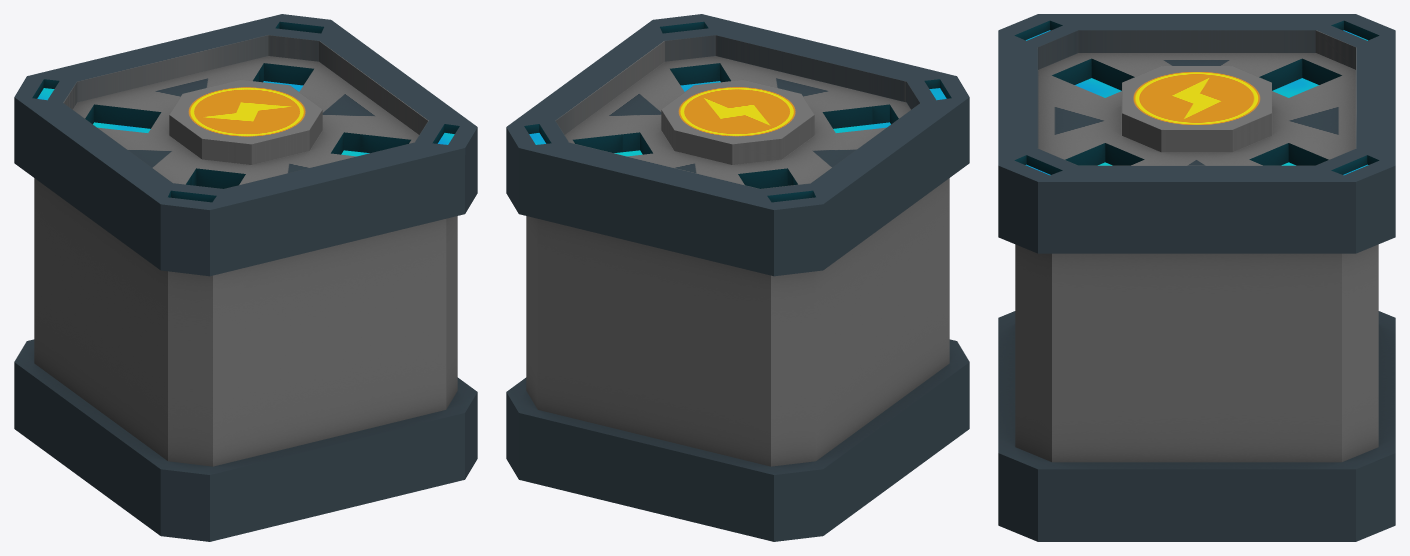
The model's file is Magnet1.fbx.
3 views of the same model, side by side, from view 1: azimuth 30°, elevation 25°; view 2: azimuth 150°, elevation 25°; view 3: azimuth 270°, elevation 25° (orthographic). The views are drawn at different scales.
Visible parts, largest first — view 1: Mugnet; view 2: Mugnet; view 3: Mugnet.
Part boxes in pixels (x1,y1,x2,y2): Mugnet: (14, 14, 477, 541); Mugnet: (506, 14, 969, 541); Mugnet: (998, 14, 1395, 541).
Bounding box in the file's own units: 100 × 100 × 100.
Materials: 1 (1 with a texture image).
